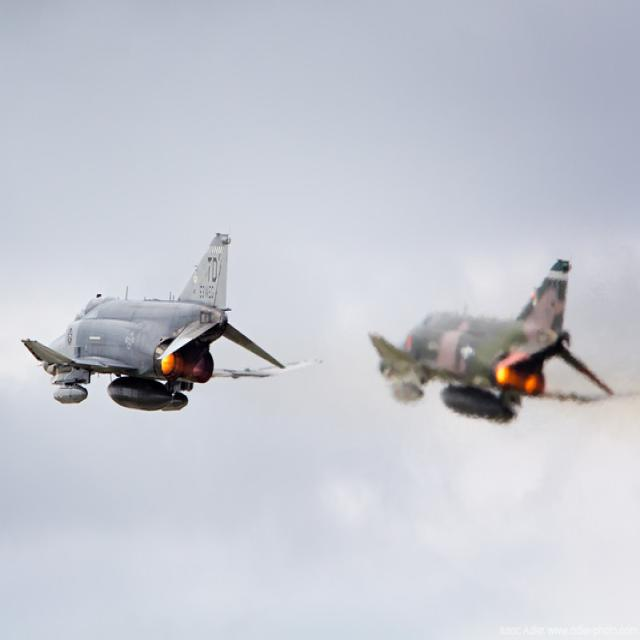MIL_Plane: (20, 224, 323, 412), (366, 253, 640, 425)
